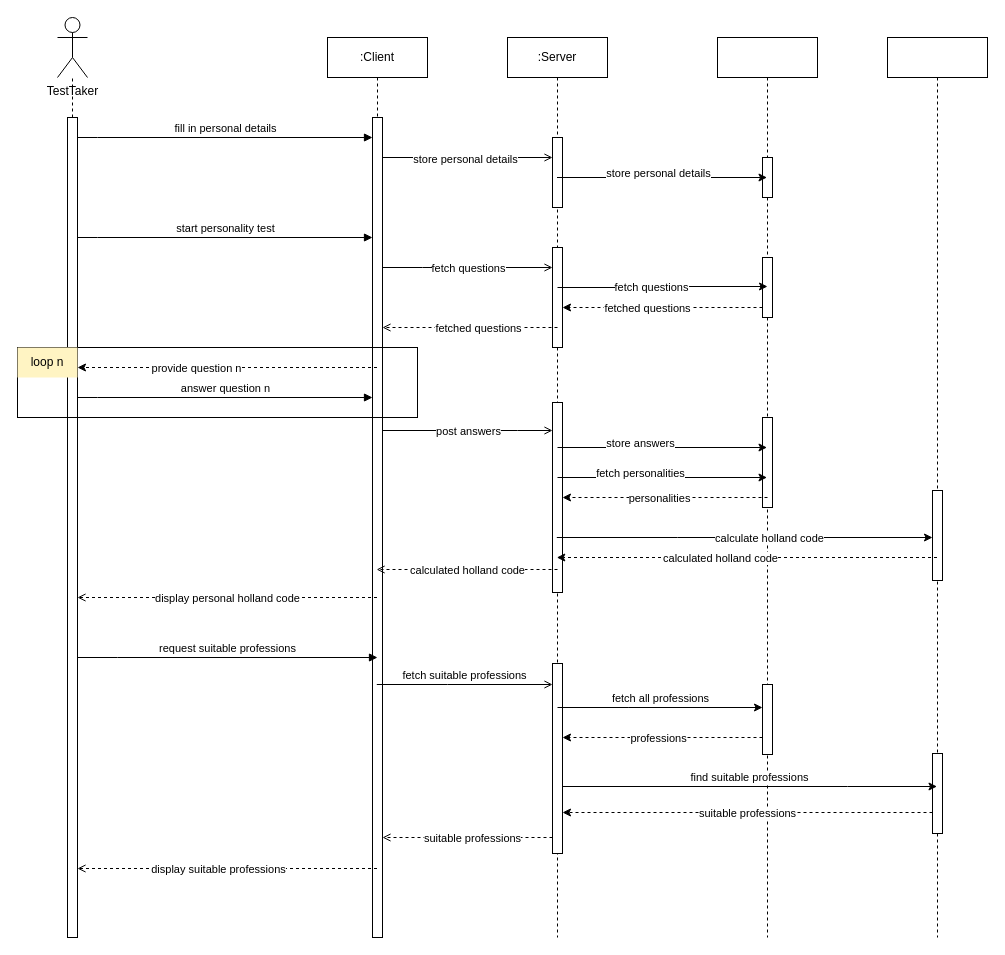
Some shapes in this 1005 by 955 pixel diagram are drawn without their labels. Each missing label, with the centre of its shape:
":Database" belongs at (767,487).
":Drools" belongs at (937,487).
